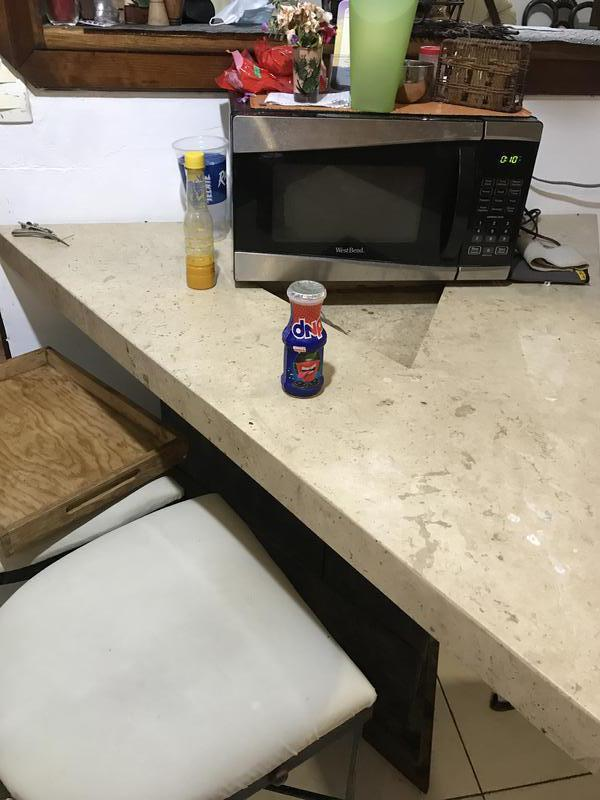danup: (280, 280, 326, 399)
